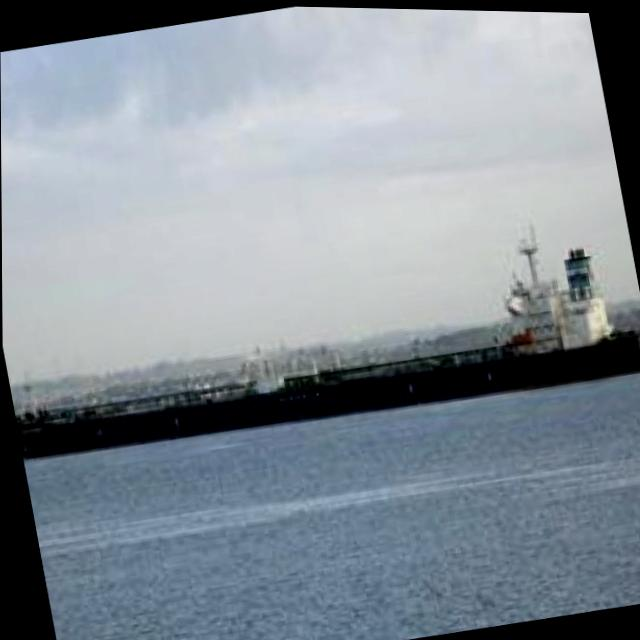ship2: (15, 219, 640, 459)
